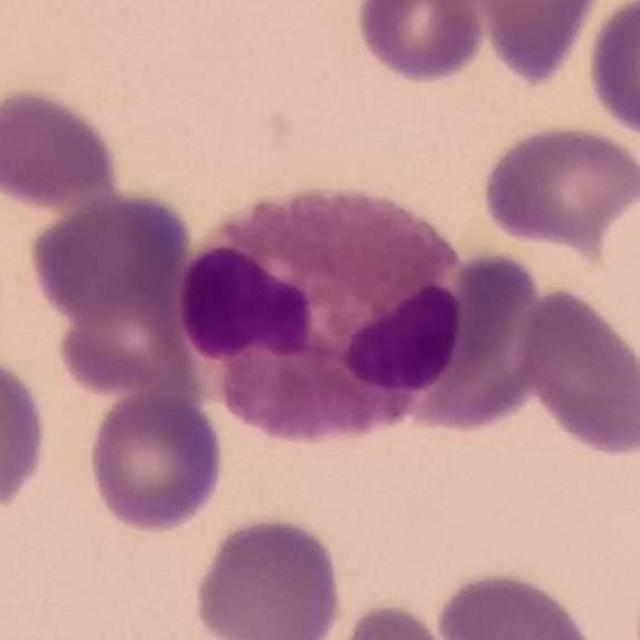Eosinophil: (184, 167, 467, 456)
RBC: (25, 187, 196, 331), (420, 246, 544, 431), (513, 282, 640, 460), (84, 386, 230, 537), (478, 118, 639, 249), (189, 511, 346, 640), (51, 275, 199, 403), (0, 82, 124, 212), (461, 0, 606, 89), (431, 565, 603, 640), (351, 0, 488, 87), (0, 348, 51, 519), (583, 0, 640, 141), (314, 597, 475, 640)
